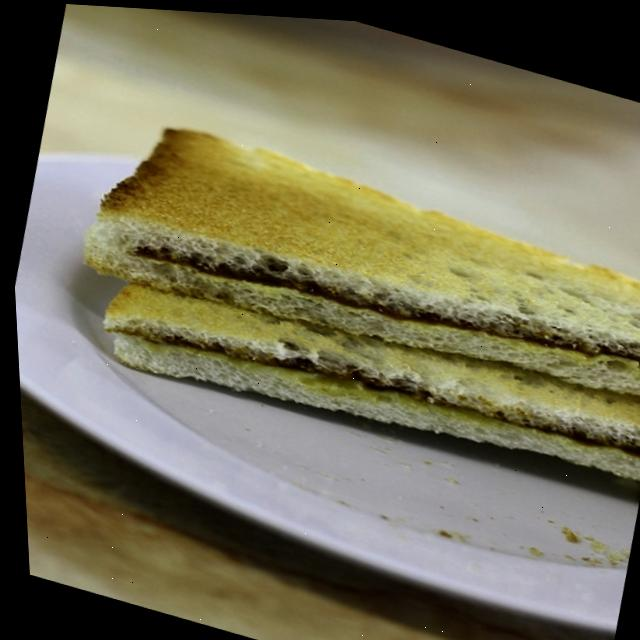面包点心: (0, 1, 640, 578)
